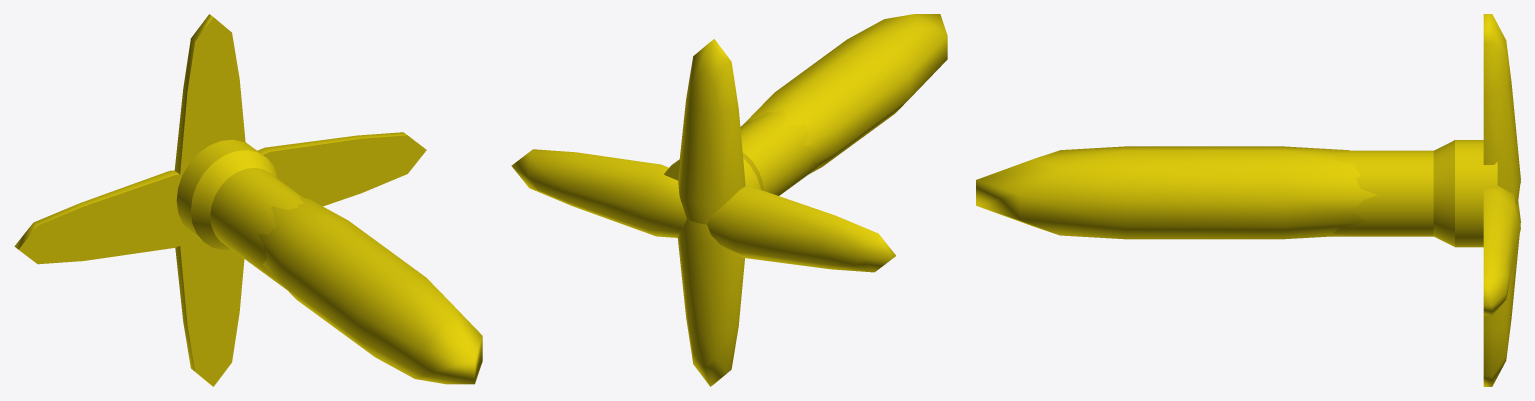
File: light_beam.glb
3 renders of one model, left to right at view 1: azimuth 30°, elevation 25°; view 2: azimuth 150°, elevation 25°; view 3: azimuth 270°, elevation 25°, orthographic. The views are drawn at different scales.
Parts seen in each view (by area): view 1: mergedBlocks(Clone); view 2: mergedBlocks(Clone); view 3: mergedBlocks(Clone).
Part boxes in pixels (left/top/right/bottom): mergedBlocks(Clone): left=14, top=14, right=482, bottom=386; mergedBlocks(Clone): left=511, top=14, right=947, bottom=386; mergedBlocks(Clone): left=976, top=14, right=1520, bottom=386.
Size of the model in its own units: 2.23 by 1.93 by 2.56.
